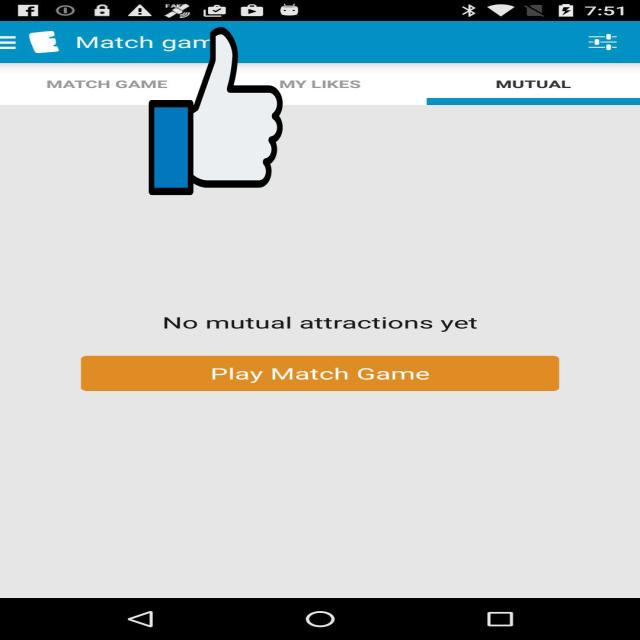privacy zuckering: (148, 23, 282, 199)
